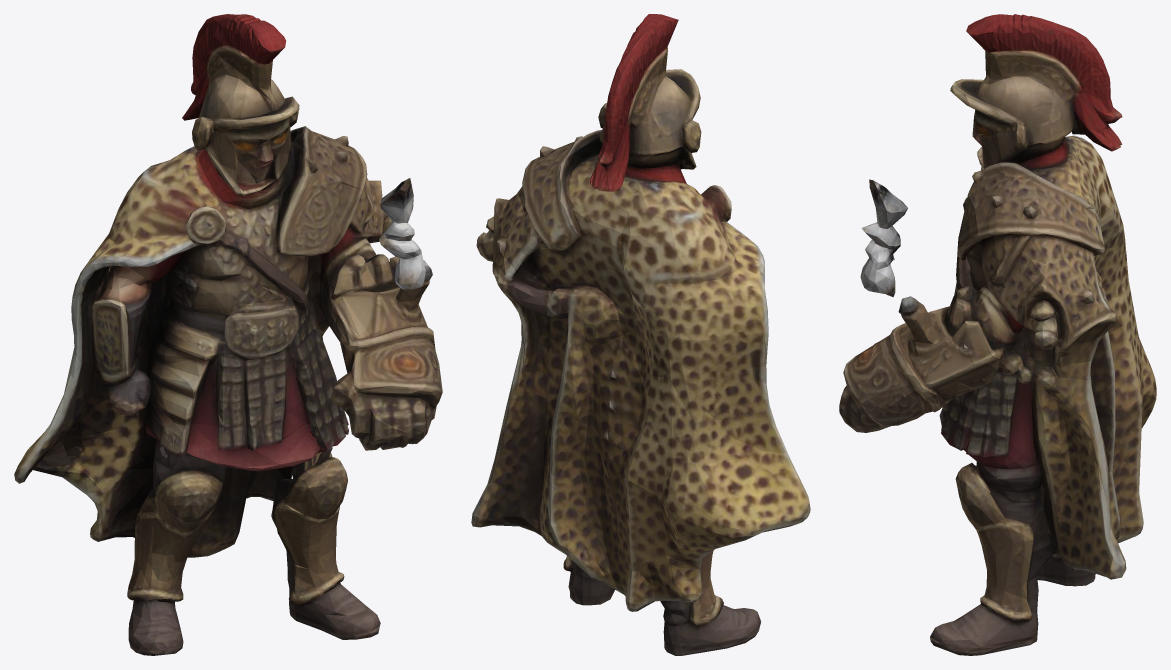
Rendered from brassArmSapper.glb.
3 renders of one model, left to right at view 1: azimuth 30°, elevation 25°; view 2: azimuth 150°, elevation 25°; view 3: azimuth 270°, elevation 25°, orthographic. The views are drawn at different scales.
Visible parts, largest first — view 1: world; view 2: world; view 3: world.
Boxes of the visible parts, x1,y1,x2,y2 form: world: (14, 14, 442, 655); world: (471, 14, 810, 655); world: (839, 14, 1156, 655).
Bounding box in the file's own units: 0.6245 × 0.9998 × 0.4849.
Materials: 1 (1 with a texture image).
